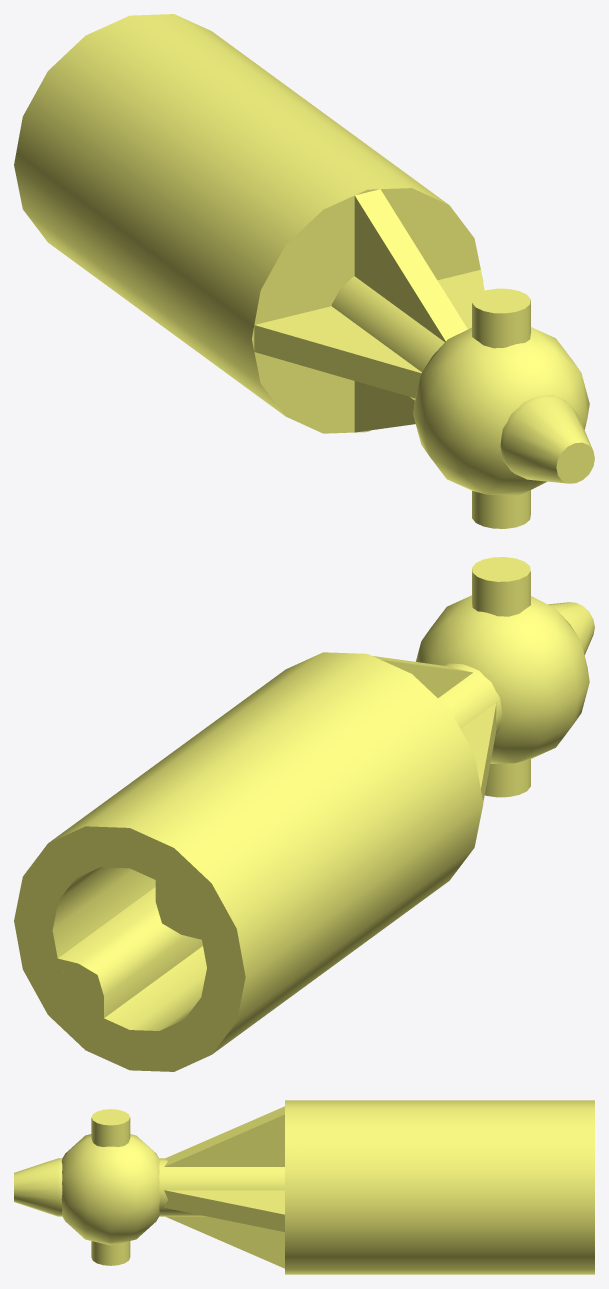
The picture shows the model from 3 angles, top to bottom: view 1: azimuth 30°, elevation 25°; view 2: azimuth 150°, elevation 25°; view 3: azimuth 270°, elevation 25°; orthographic projection. The views are drawn at different scales.
Visible parts, largest first — view 1: 32494.dat; view 2: 32494.dat; view 3: 32494.dat.
Part boxes in pixels (bbox=[...]): 32494.dat: bbox=[14, 14, 594, 528]; 32494.dat: bbox=[14, 557, 594, 1071]; 32494.dat: bbox=[14, 1100, 594, 1274].
Size of the model in its own units: 0.0072 by 0.0072 by 0.024.
